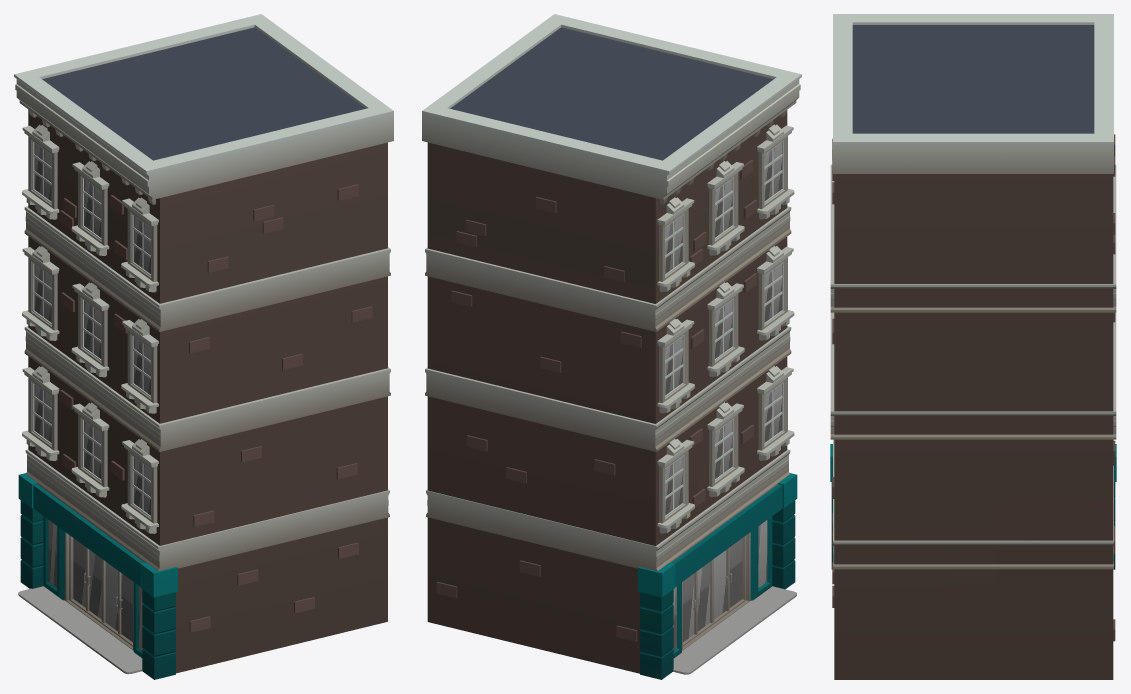
File: Building_21_2_E.fbx
The picture shows the model from 3 angles, left to right: view 1: azimuth 30°, elevation 25°; view 2: azimuth 150°, elevation 25°; view 3: azimuth 270°, elevation 25°; orthographic projection. The views are drawn at different scales.
Parts seen in each view (by area): view 1: Building_21_2_E; view 2: Building_21_2_E; view 3: Building_21_2_E.
Boxes of the visible parts, x1=… form: Building_21_2_E: x1=14, y1=14, x2=393, y2=679; Building_21_2_E: x1=422, y1=14, x2=801, y2=679; Building_21_2_E: x1=830, y1=14, x2=1116, y2=679.
Bounding box in the file's own units: 779 × 1485 × 713.
